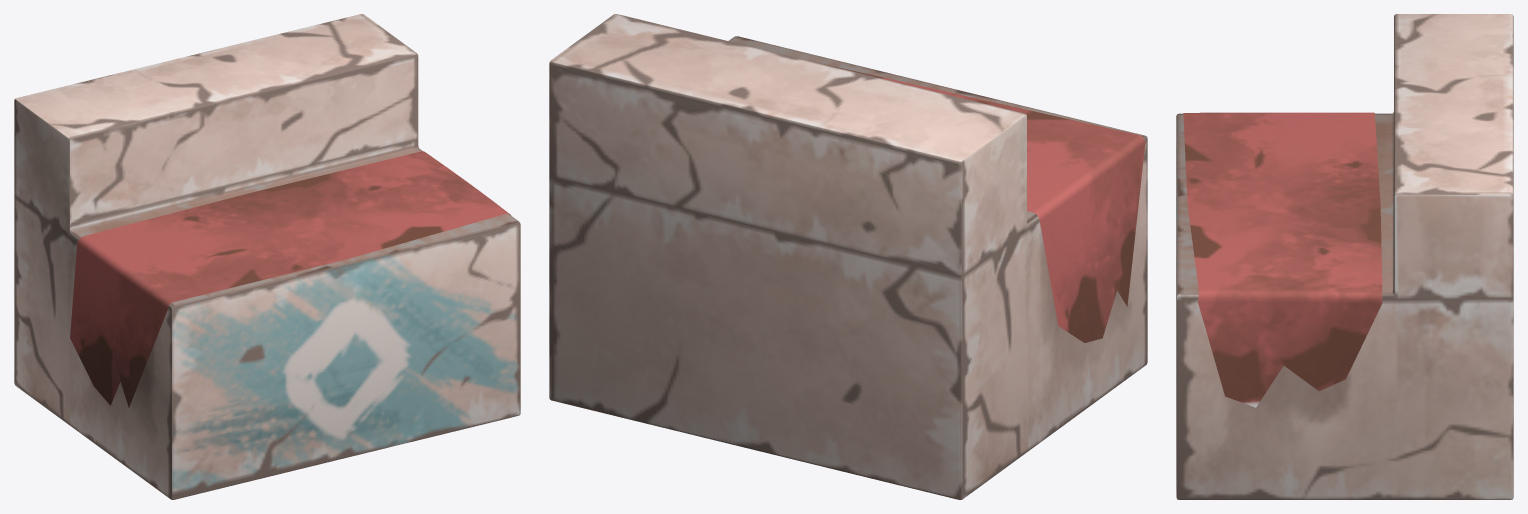
File: Autel_B.FBX
3 views of the same model, side by side, from view 1: azimuth 30°, elevation 25°; view 2: azimuth 150°, elevation 25°; view 3: azimuth 270°, elevation 25° (orthographic). The views are drawn at different scales.
Visible parts, largest first — view 1: Z3_Altar001; view 2: Z3_Altar001; view 3: Z3_Altar001.
Boxes of the visible parts, x1,y1,x2,y2 form: Z3_Altar001: (14,14,520,499); Z3_Altar001: (549,14,1147,499); Z3_Altar001: (1176,14,1513,499).
Bounding box in the file's own units: 284 × 208 × 208.
